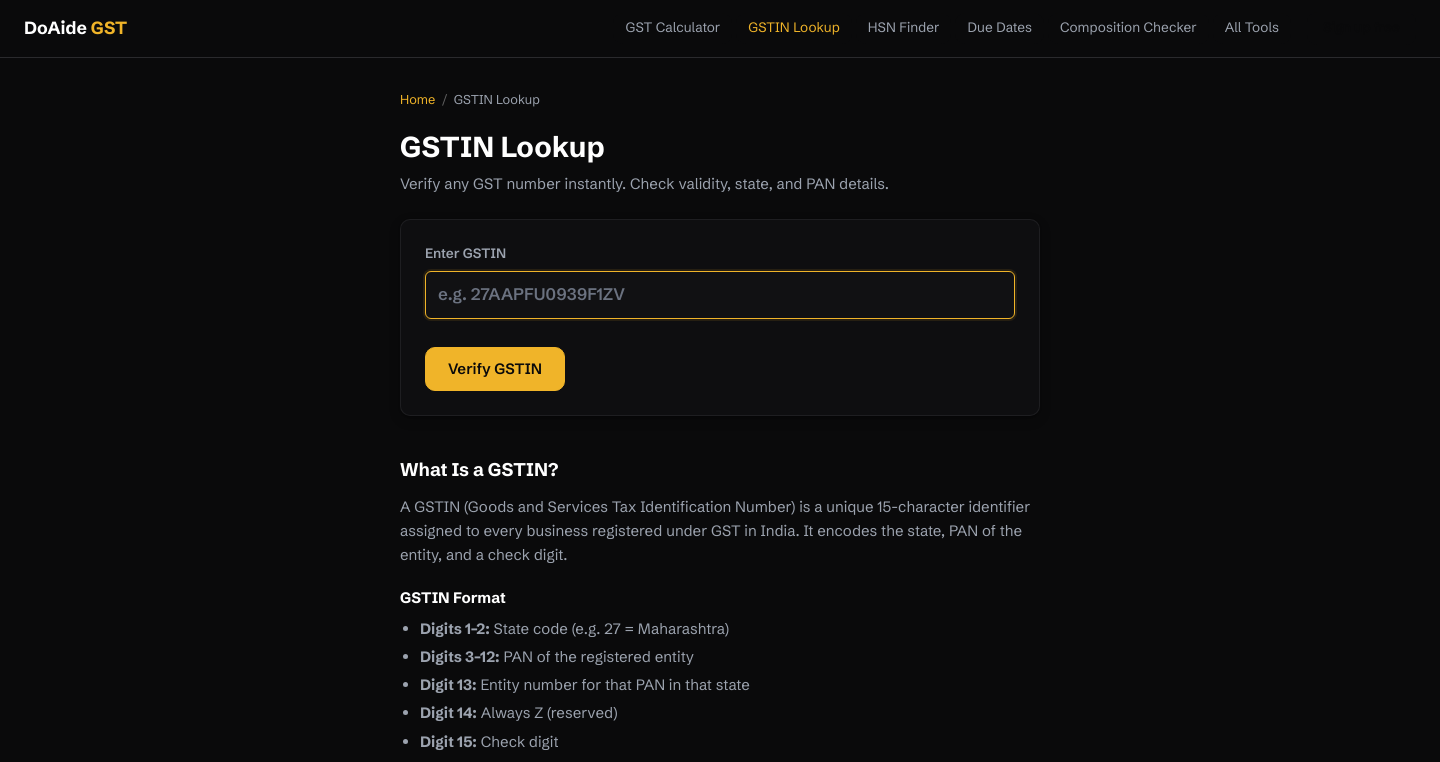
Test: LookupPage › shows invalid result for bad GSTIN
Type "INVALID123ABCDE" into the field with placeholder "e.g. 27AAPFU0939F1ZV". click: (720, 295)
box: [425,271,1015,319]
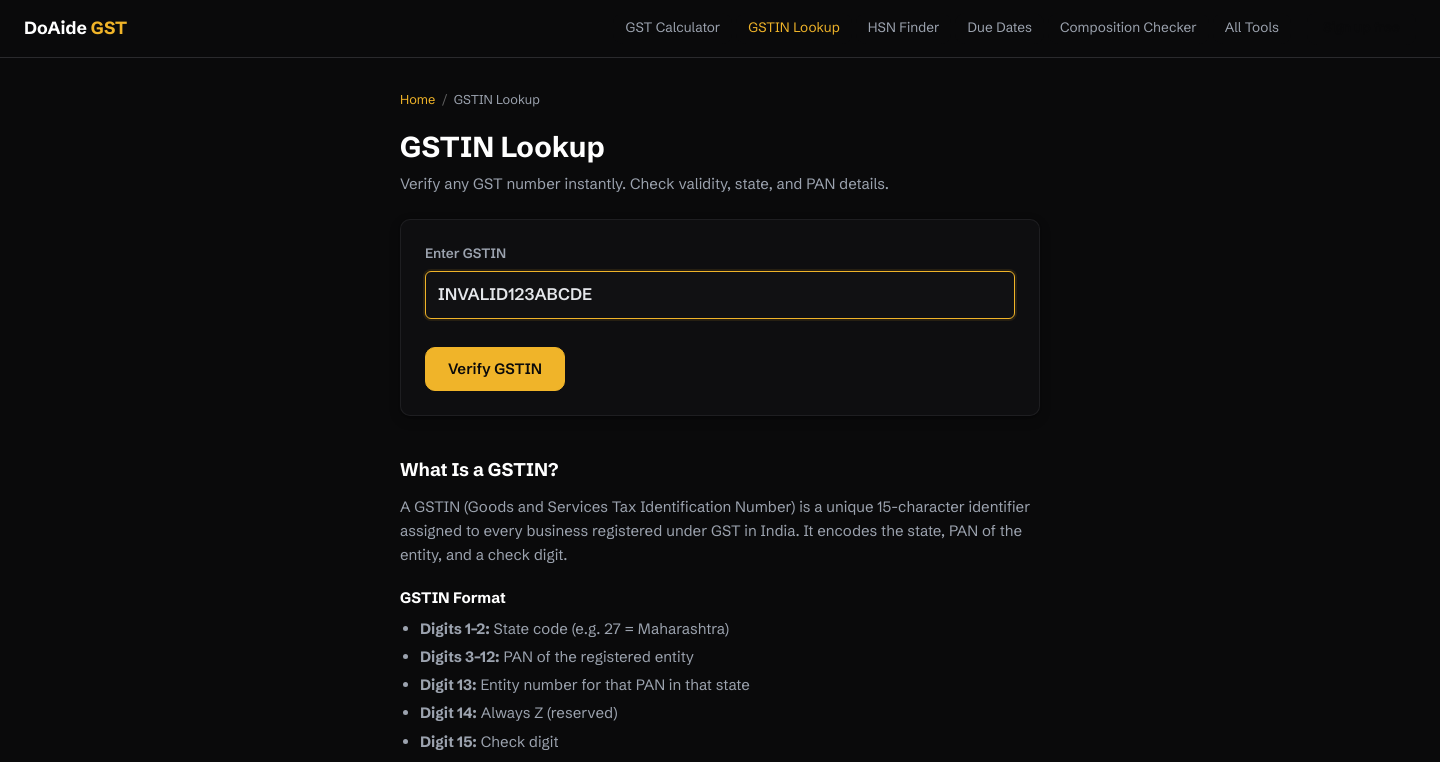
Click the button "Verify GSTIN". click: click(495, 369)
box: [425,347,565,391]
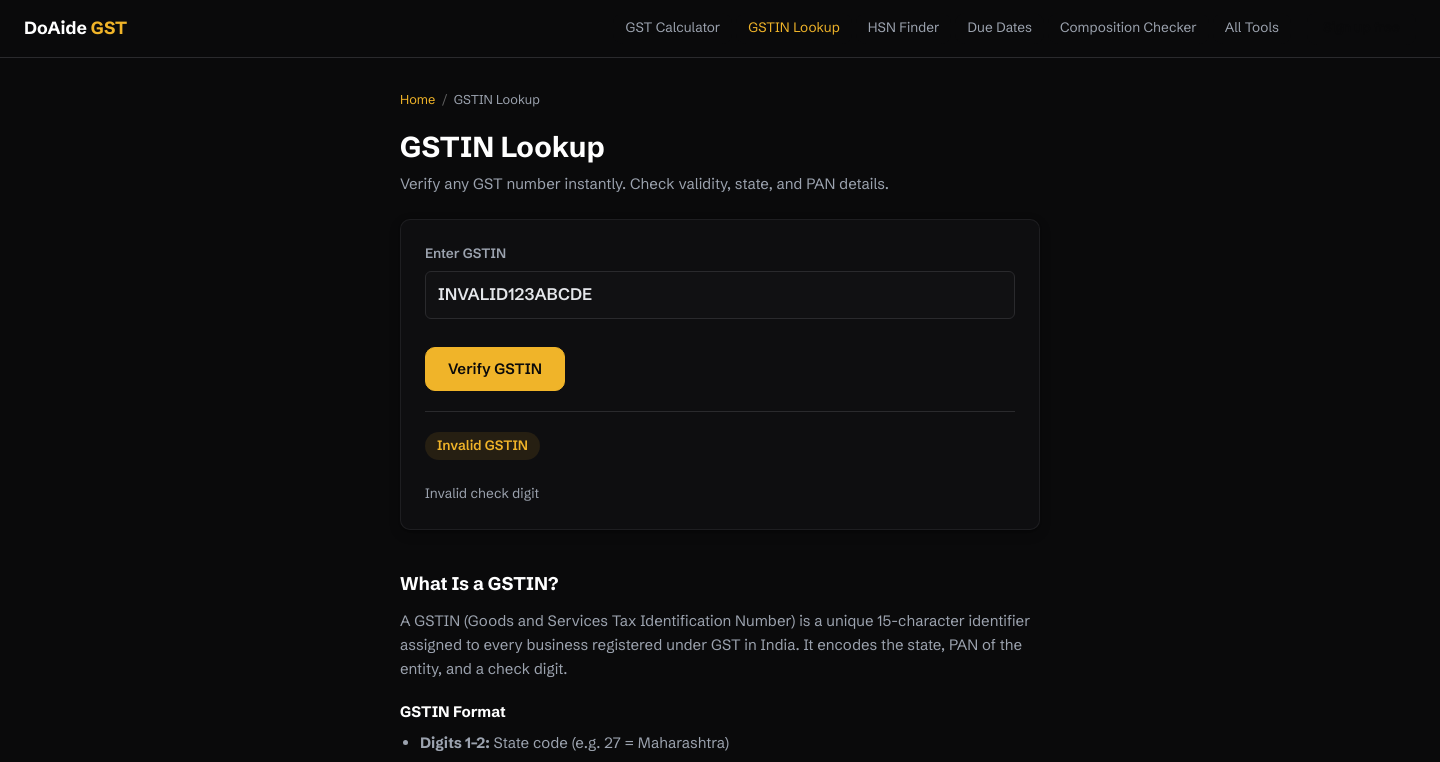
Check: the text "Invalid GSTIN" is shown, box [425,432,540,460]
